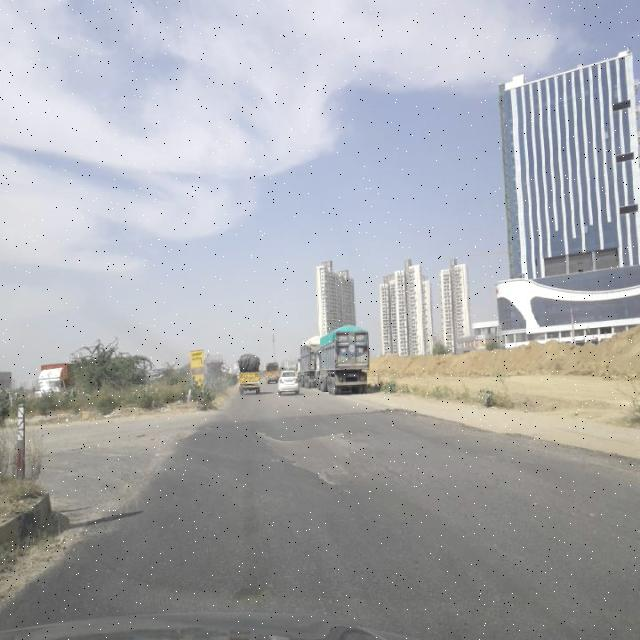D40: (237, 414, 371, 494)
